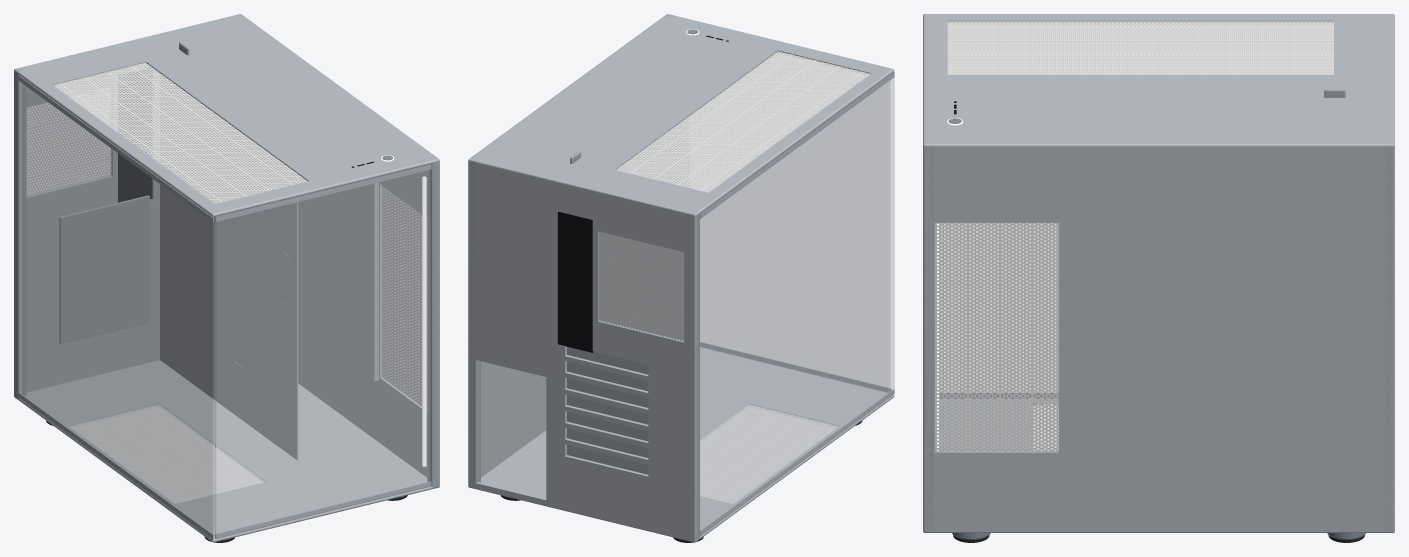
File: case-bitlab-cube_lod1.glb
3 views of the same model, side by side, from view 1: azimuth 30°, elevation 25°; view 2: azimuth 150°, elevation 25°; view 3: azimuth 270°, elevation 25° (orthographic). The views are drawn at different scales.
Parts seen in each view (by area): view 1: case_CaseSolid, glass_front, glass_side, case_Perforated, case_RGB; view 2: case_CaseSolid, glass_side, glass_front, case_Perforated; view 3: case_CaseSolid, case_Perforated, glass_side.
Boxes of the visible parts, x1,y1,x2,y2 form: case_CaseSolid: (14, 14, 439, 542); glass_front: (215, 166, 430, 537); glass_side: (19, 77, 215, 538); case_Perforated: (26, 62, 427, 503); case_RGB: (381, 155, 426, 466); case_CaseSolid: (468, 14, 894, 542); glass_side: (700, 73, 894, 534); glass_front: (700, 80, 890, 392); case_Perforated: (598, 51, 870, 503); case_CaseSolid: (923, 14, 1394, 542); case_Perforated: (934, 21, 1333, 451); glass_side: (940, 57, 1255, 398).
Size of the model in its own units: 0.29 by 0.426 by 0.44.
4 materials, 1 textured.
